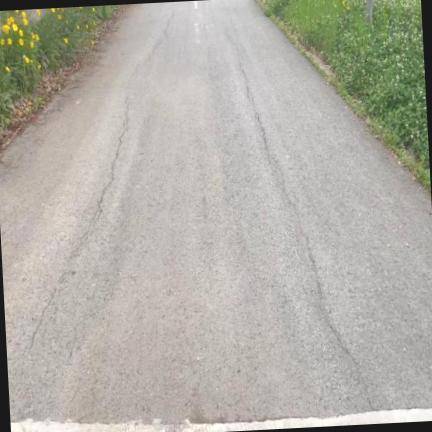Road: (0, 0, 431, 423)
